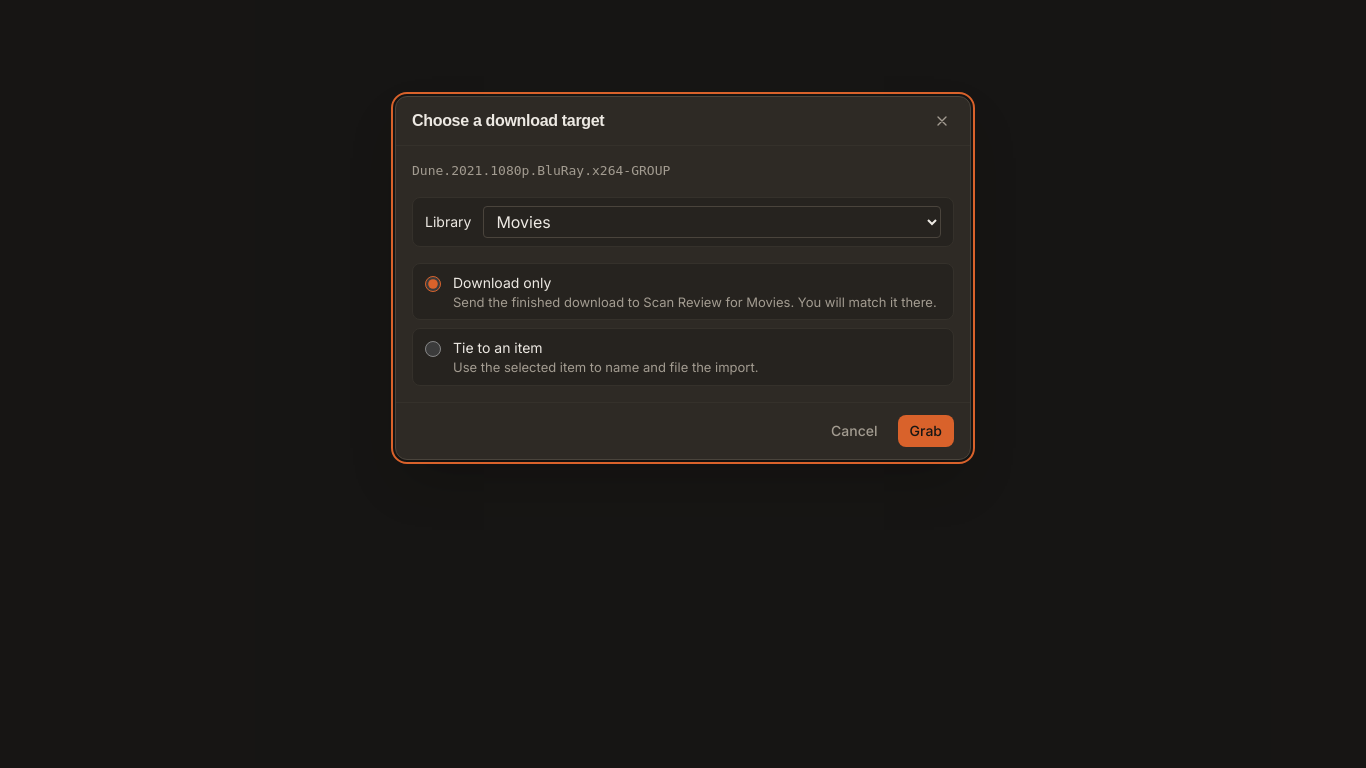
Test case: GrabTargetModal › shows the chosen library’s own items when tying
The image size is (1366, 768).
Click the 2nd radio button at (433, 349), box [425, 341, 441, 357]
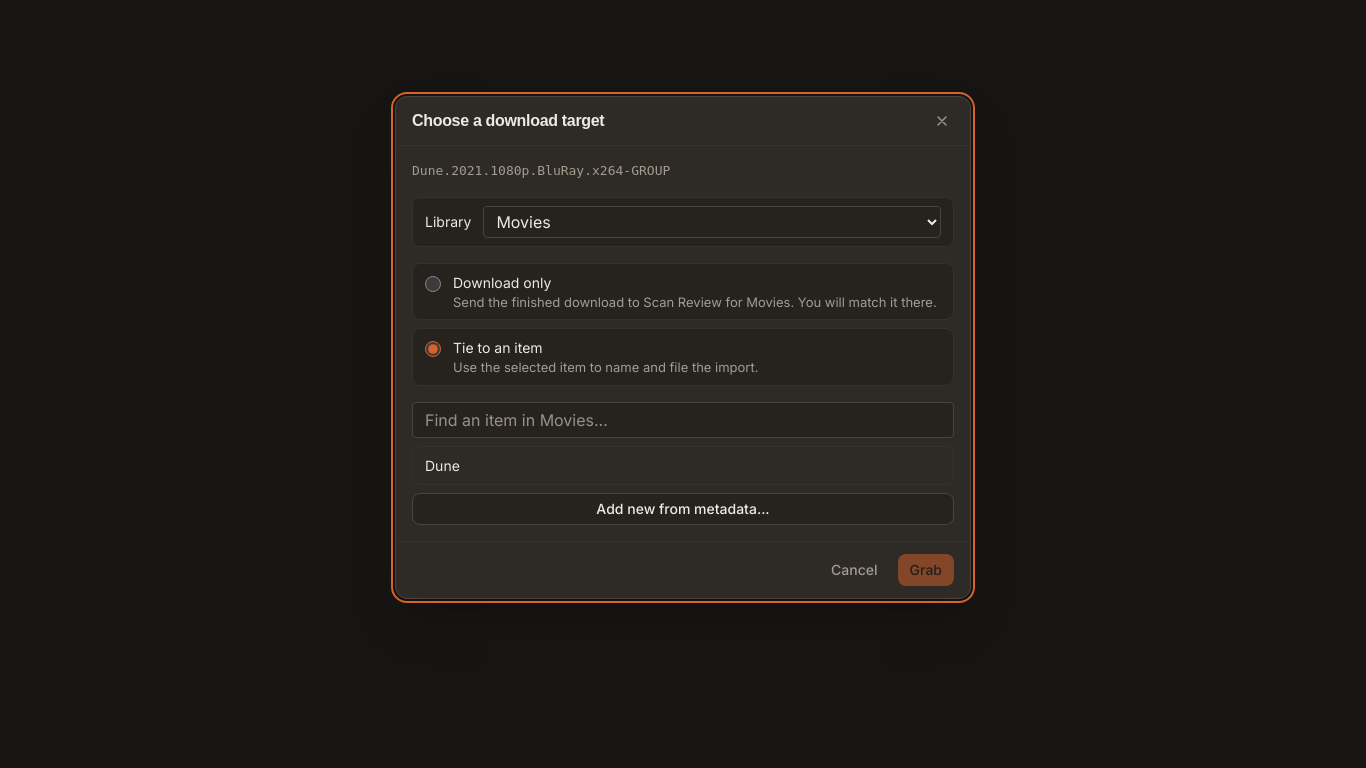
Expected: the text "Dune" is shown, [412, 163, 670, 178]
Expected: the element showing "Dune Add new from metadata..." is shown, [412, 402, 954, 525]
